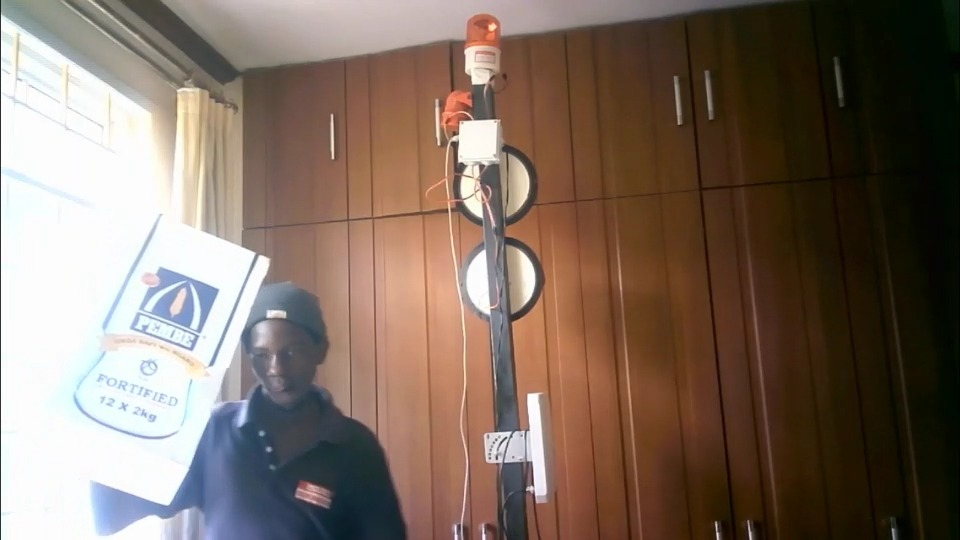wheat_flour_blue_label: (49, 212, 273, 507)
